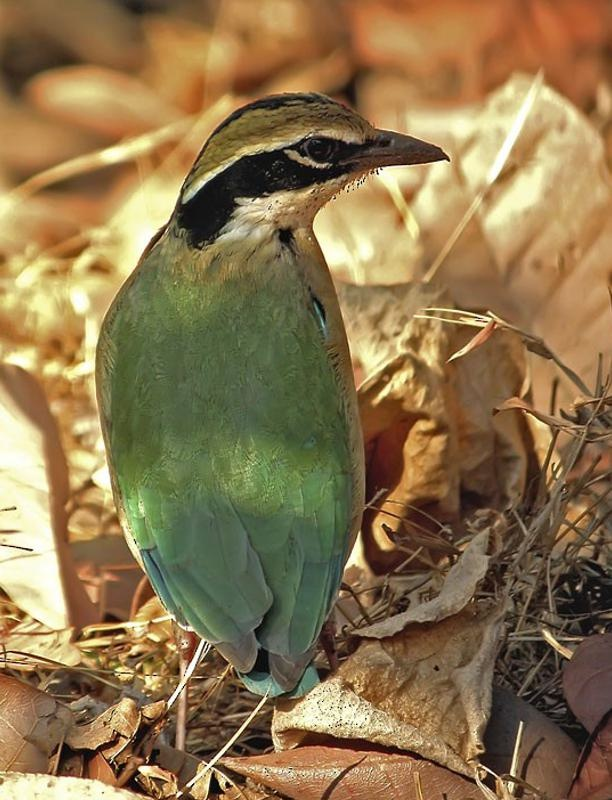pitta: (104, 93, 456, 697)
